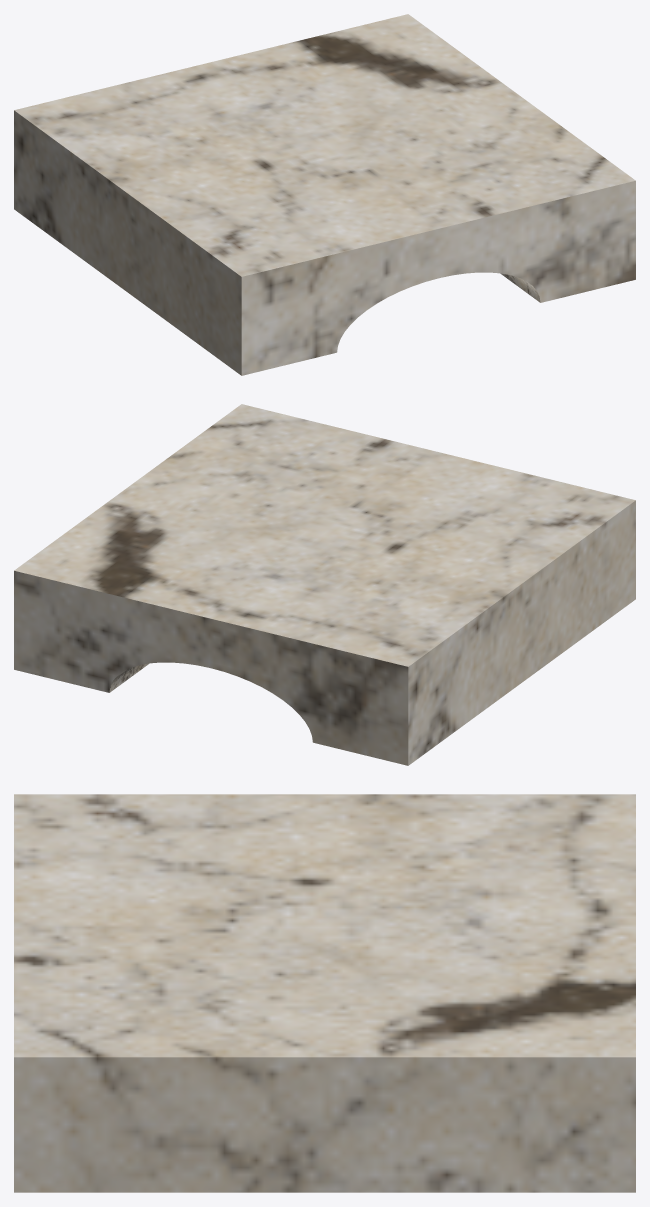
File: ceiling_base.fbx
3 views of the same model, one above another, from view 1: azimuth 30°, elevation 25°; view 2: azimuth 150°, elevation 25°; view 3: azimuth 270°, elevation 25° (orthographic). The views are drawn at different scales.
Parts seen in each view (by area): view 1: Ceiling; view 2: Ceiling; view 3: Ceiling.
Part boxes in pixels (x1,y1,x2,y2): Ceiling: (14,14,635,375); Ceiling: (14,404,635,765); Ceiling: (14,794,635,1192).
Size of the model in its own units: 2.5 by 2.5 by 0.6.
Materials: 1 (1 with a texture image).
